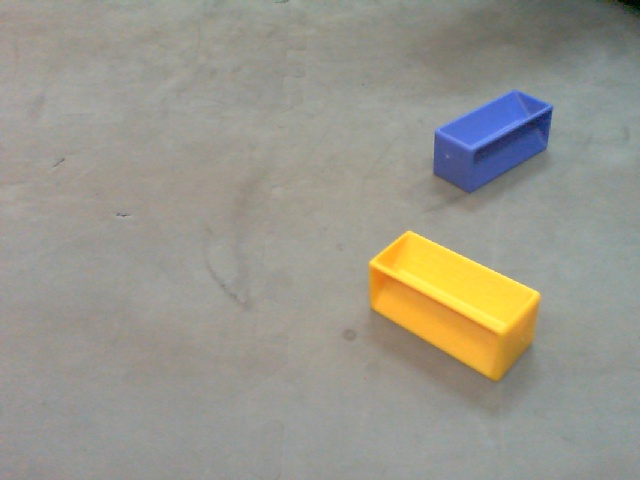BlueSample: (430, 87, 557, 201)
YellowSample: (364, 228, 541, 390)
